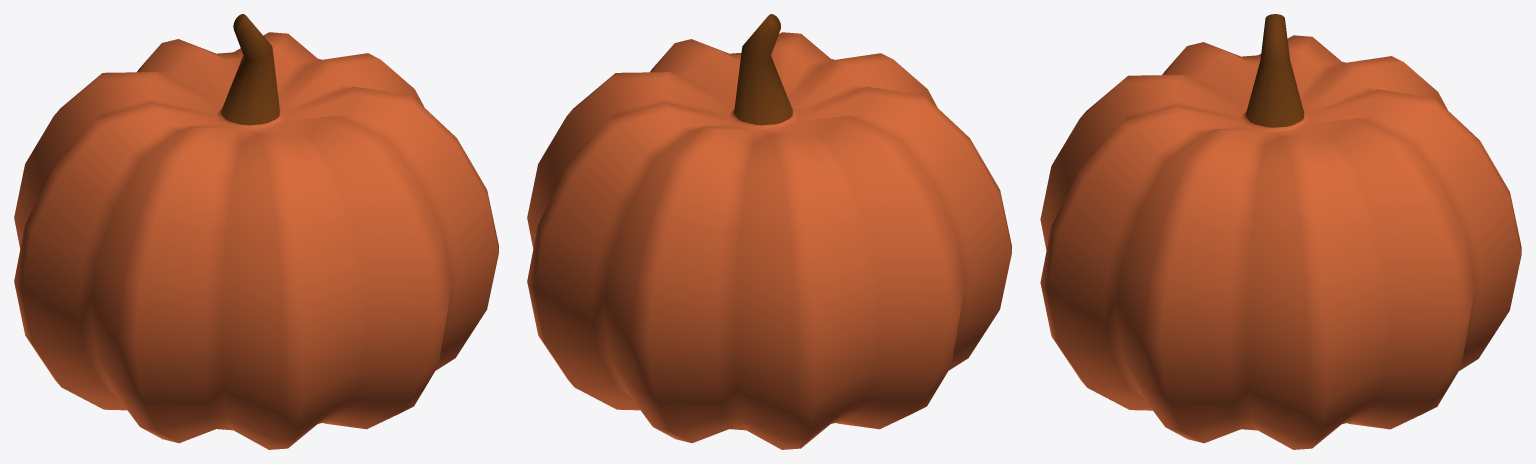
Rendered from SM_Pumpkin_01.fbx.
3 views of the same model, side by side, from view 1: azimuth 30°, elevation 25°; view 2: azimuth 150°, elevation 25°; view 3: azimuth 270°, elevation 25° (orthographic).
Parts seen in each view (by area): view 1: Pumpkin_01; view 2: Pumpkin_01; view 3: Pumpkin_01.
Boxes of the visible parts, x1,y1,x2,y2 form: Pumpkin_01: [14, 14, 498, 449]; Pumpkin_01: [527, 14, 1011, 449]; Pumpkin_01: [1040, 14, 1521, 449].
Size of the model in its own units: 54.99 by 46.67 by 54.16.
